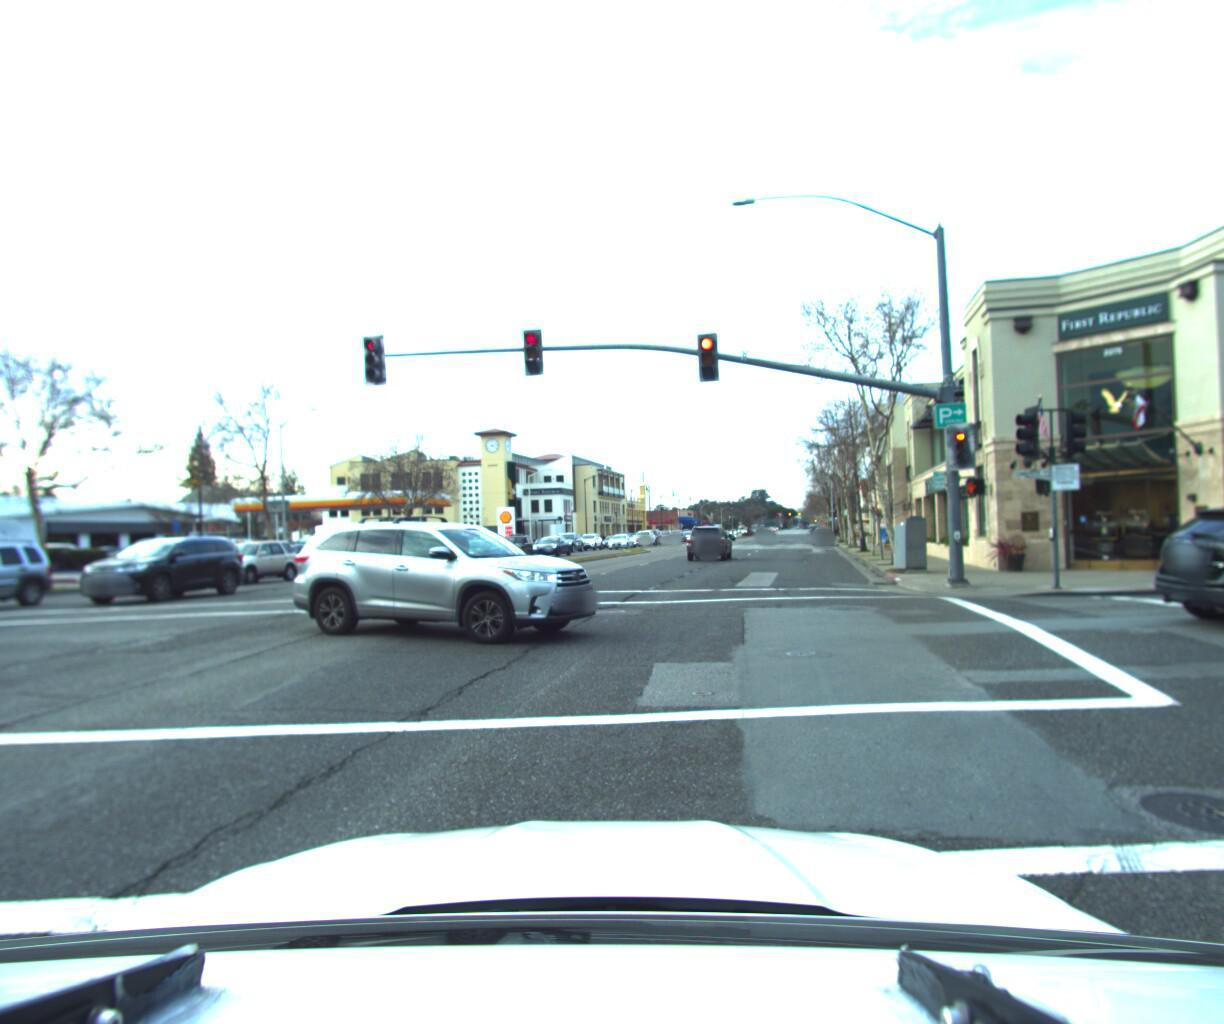car: (285, 513, 619, 651), (1131, 483, 1224, 639), (70, 535, 255, 610), (0, 541, 73, 621), (196, 538, 309, 586), (244, 543, 330, 579), (25, 542, 105, 580), (682, 521, 736, 560), (528, 535, 572, 557), (574, 531, 605, 550), (605, 531, 635, 549), (629, 529, 655, 547), (810, 525, 832, 545)
